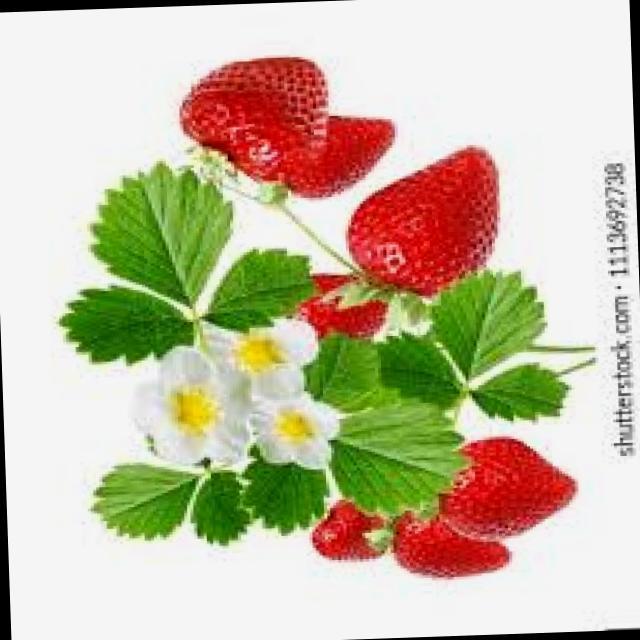strawberry: (342, 139, 510, 308), (178, 39, 336, 192), (436, 432, 581, 548)
